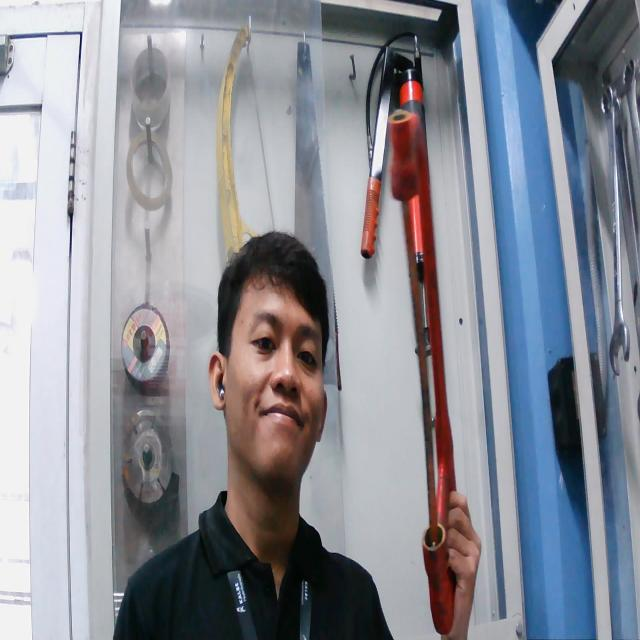gergaji_besi: (384, 96, 476, 635)
